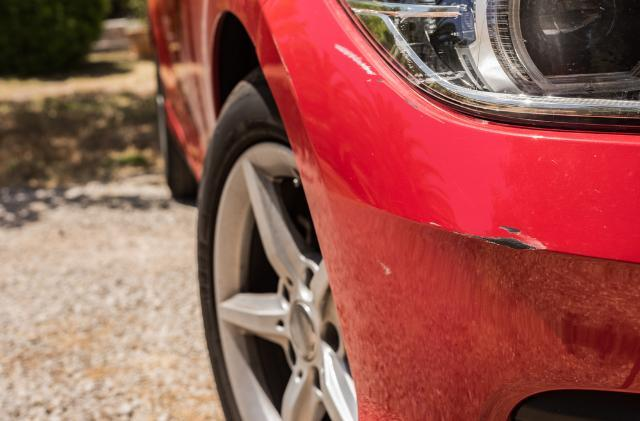scratch: (438, 222, 550, 255), (334, 41, 386, 84)
